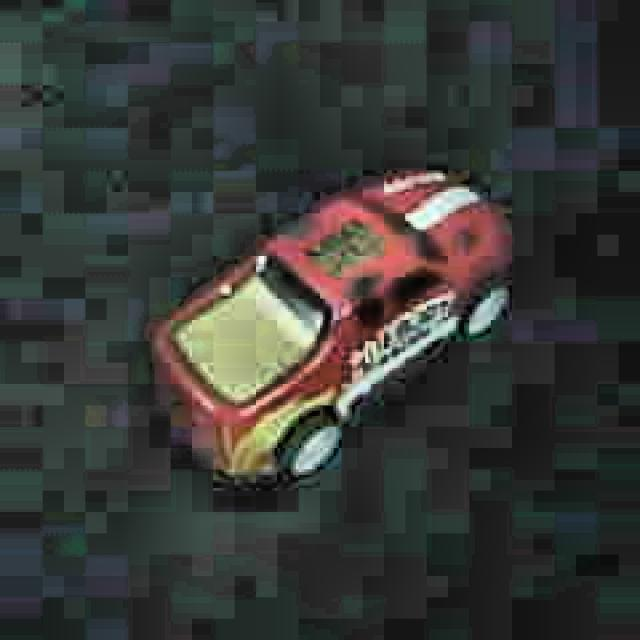car: (144, 161, 518, 481)
